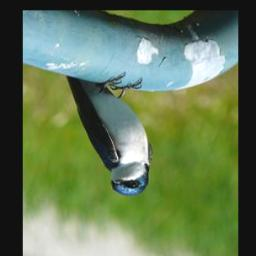Swallow: (66, 71, 155, 198)
